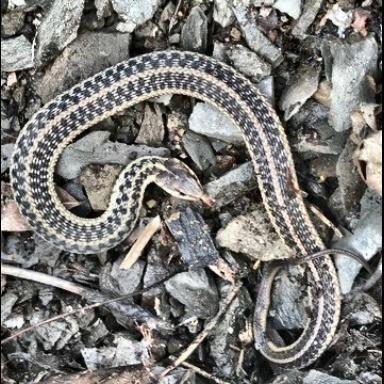snake: (1, 49, 356, 384)
